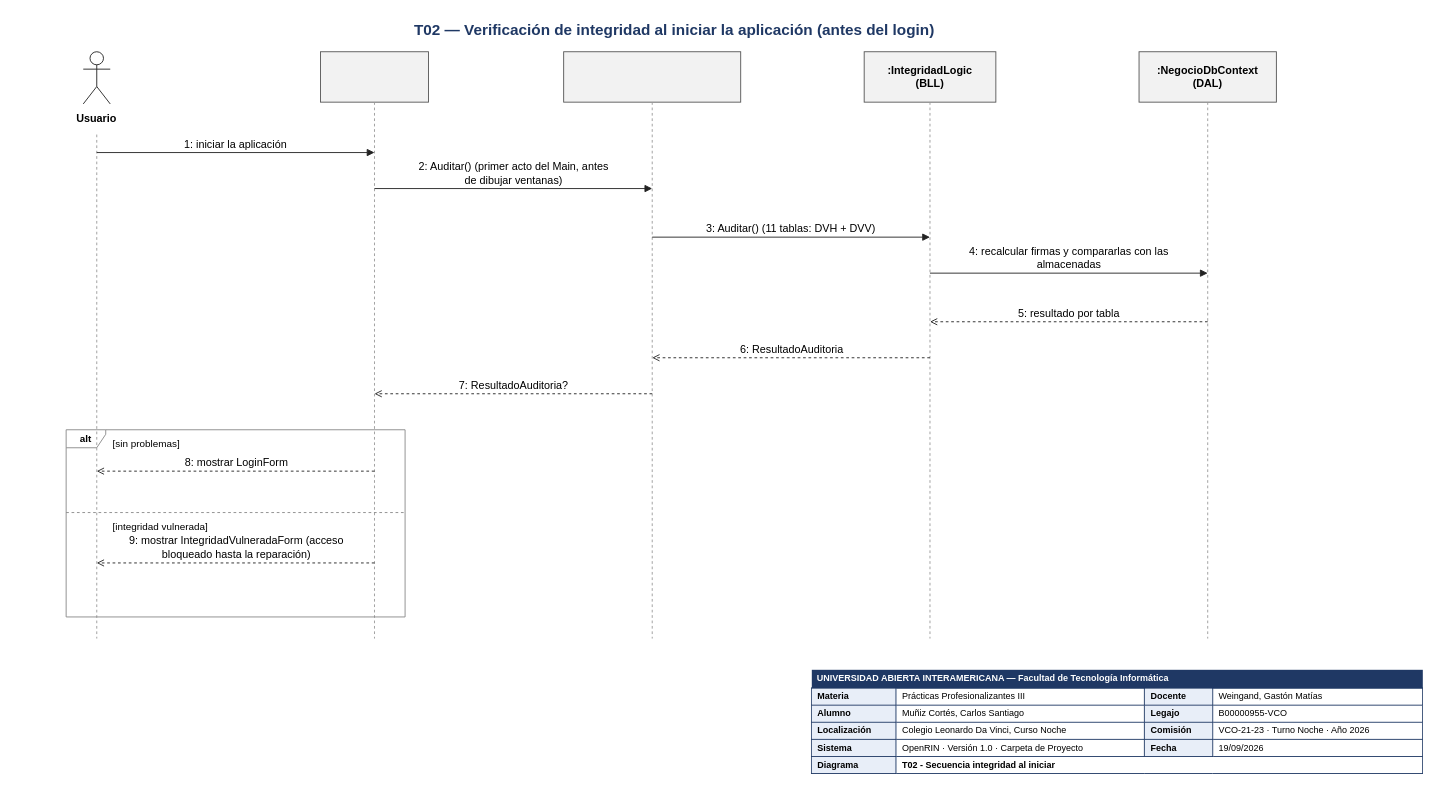
The diagram is 1439 pixels wide and 807 high, and some of its shapes have lost their labels. The centre of each missing label's shape, as x and y in pixels:
":Program (static)" goes at pixel 374 76.
":VerificacionArranque (static)" goes at pixel 652 76.
